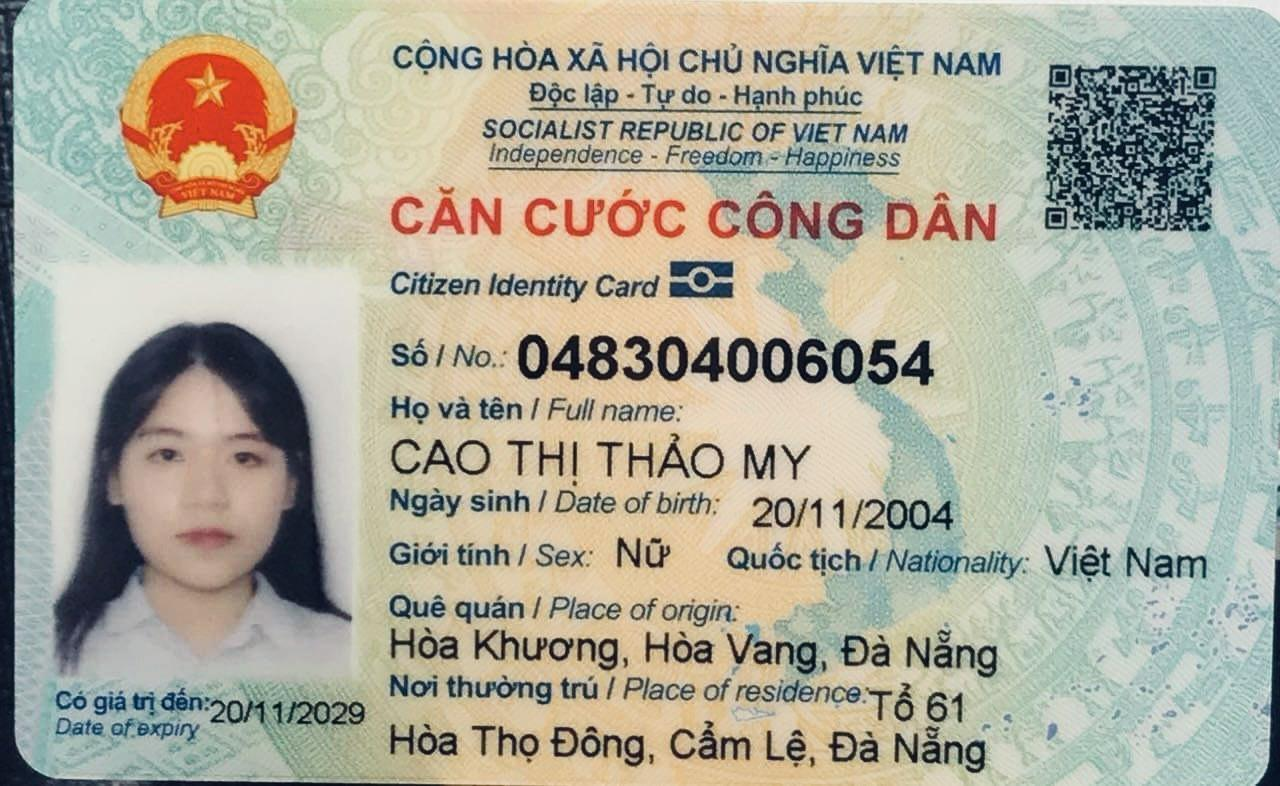ID: (508, 319, 948, 398)
birth: (742, 487, 967, 539)
name: (375, 424, 817, 490)
place: (380, 618, 1012, 679)
residence: (377, 719, 1040, 775), (853, 680, 976, 727)
